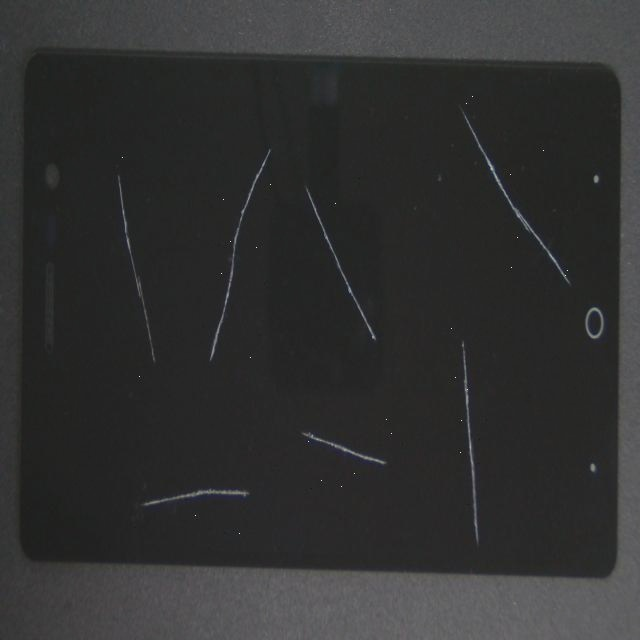scratch: (76, 216, 470, 640), (249, 131, 640, 505), (180, 185, 542, 556), (169, 0, 640, 279), (171, 0, 365, 298), (69, 219, 202, 640), (32, 0, 176, 356)
